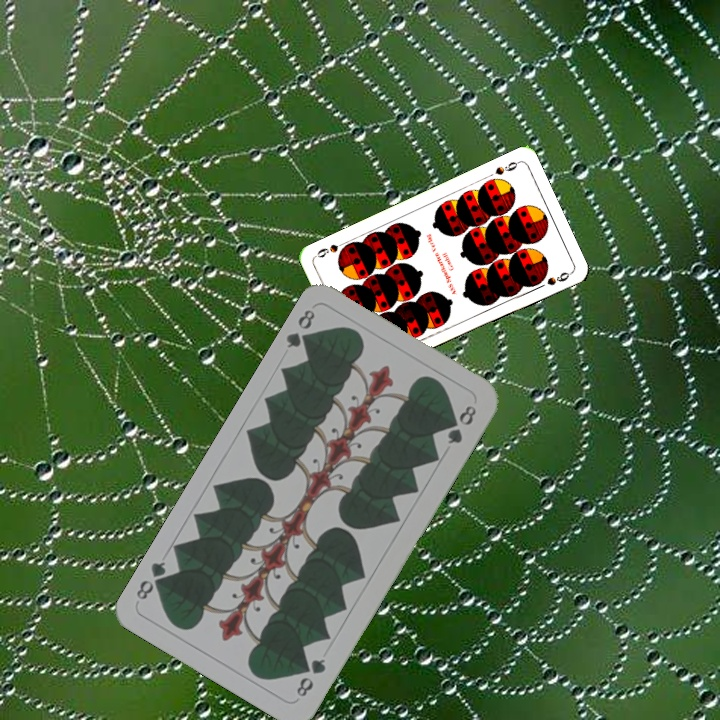G8: (292, 654, 329, 700), (282, 305, 318, 352)
S9: (491, 157, 522, 178)
